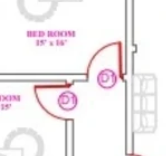door: (80, 28, 129, 82), (28, 80, 84, 125)
